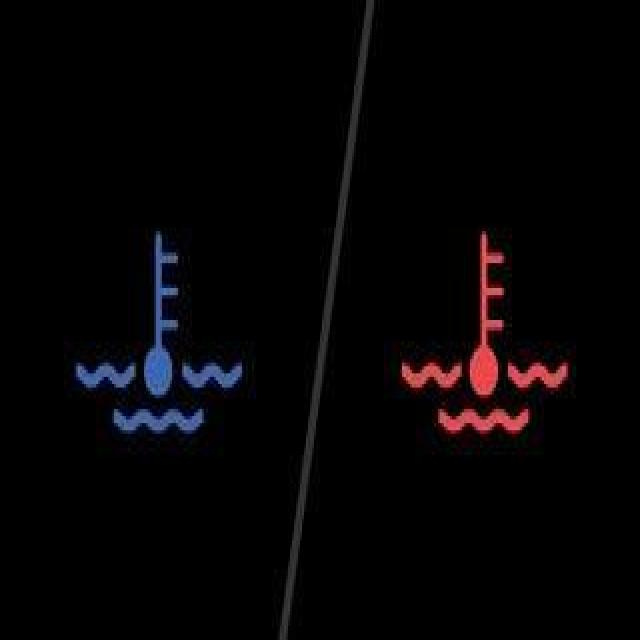kontrolka: (381, 212, 586, 460), (60, 213, 256, 463)
